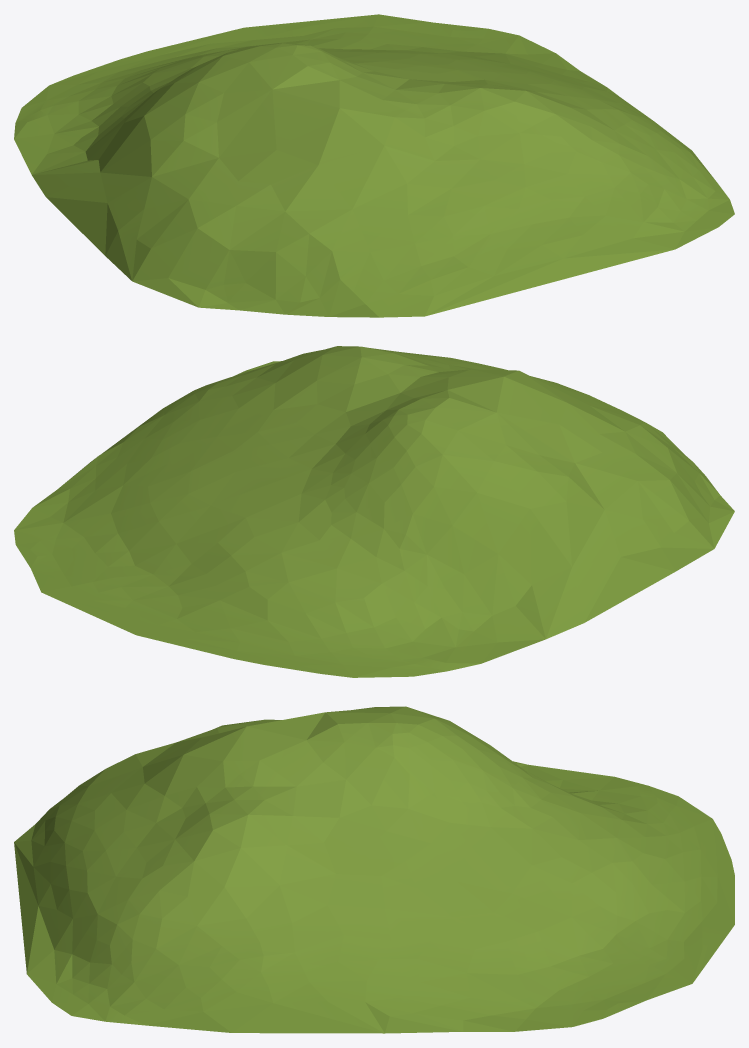
The model's file is Mesh_Landscape_Hill_05.FBX.
3 views of the same model, one above another, from view 1: azimuth 30°, elevation 25°; view 2: azimuth 150°, elevation 25°; view 3: azimuth 270°, elevation 25° (orthographic). The views are drawn at different scales.
Visible parts, largest first — view 1: Mesh_Landscape_Hill_05; view 2: Mesh_Landscape_Hill_05; view 3: Mesh_Landscape_Hill_05.
Boxes of the visible parts, <box> form: Mesh_Landscape_Hill_05: <box>14,14,734,317</box>; Mesh_Landscape_Hill_05: <box>14,346,734,677</box>; Mesh_Landscape_Hill_05: <box>14,706,734,1033</box>.
Bounding box in the file's own units: 1965 × 2092 × 441.
